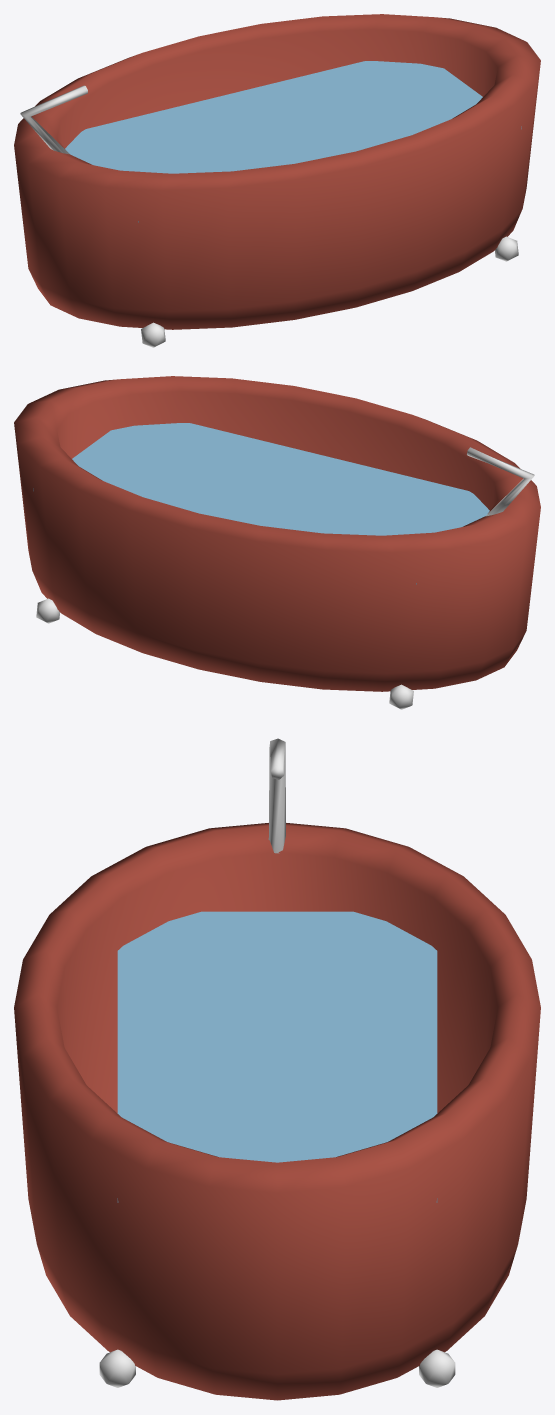
Rendered from rich_mahogany_bathtub_v0.glb.
3 renders of one model, top to bottom at view 1: azimuth 30°, elevation 25°; view 2: azimuth 150°, elevation 25°; view 3: azimuth 270°, elevation 25°, orthographic. The views are drawn at different scales.
Visible parts, largest first — view 1: rich_mahogany_bathtub_v0; view 2: rich_mahogany_bathtub_v0; view 3: rich_mahogany_bathtub_v0.
Boxes of the visible parts, left/top/right/bottom form: rich_mahogany_bathtub_v0: left=14, top=14, right=540, bottom=347; rich_mahogany_bathtub_v0: left=14, top=376, right=540, bottom=709; rich_mahogany_bathtub_v0: left=14, top=738, right=540, bottom=1400.
Bounding box in the file's own units: 2.51 × 1.08 × 1.49.
